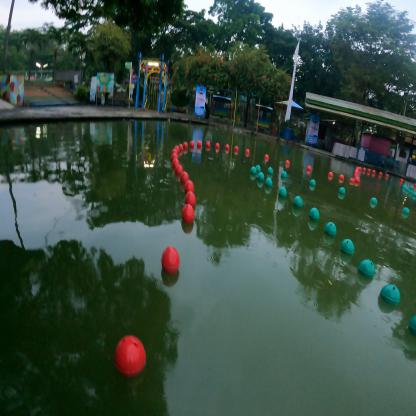green_buoy: (380, 281, 401, 307), (358, 257, 375, 280), (339, 236, 355, 256), (324, 221, 338, 237), (407, 314, 416, 337), (309, 207, 320, 222), (294, 194, 303, 208), (278, 185, 287, 198), (264, 177, 273, 188), (258, 171, 265, 182), (338, 186, 346, 194), (250, 165, 257, 174), (309, 178, 316, 187), (255, 164, 261, 173), (281, 169, 287, 178), (371, 197, 378, 204), (268, 166, 274, 174), (404, 207, 410, 213), (402, 184, 407, 190), (406, 187, 410, 192), (409, 190, 413, 194), (413, 191, 415, 198), (410, 186, 414, 188)
red_buoy: (113, 331, 146, 377), (161, 244, 180, 273), (182, 204, 194, 223), (185, 191, 196, 207), (180, 170, 190, 184), (185, 179, 194, 193), (175, 164, 183, 175), (172, 158, 180, 168), (171, 148, 178, 157), (171, 153, 178, 162), (178, 143, 184, 151), (306, 165, 312, 172), (328, 172, 334, 179), (174, 145, 179, 153), (355, 176, 360, 184), (206, 141, 211, 148), (183, 141, 188, 148), (215, 142, 220, 149), (225, 144, 230, 151), (197, 141, 202, 147), (234, 146, 239, 152), (354, 170, 359, 176), (339, 174, 344, 180), (190, 140, 194, 147), (285, 160, 290, 165), (246, 148, 250, 154), (264, 155, 269, 159), (356, 166, 360, 171), (355, 168, 359, 173), (354, 174, 358, 179), (350, 178, 354, 183), (372, 169, 376, 173), (359, 167, 362, 171), (363, 168, 366, 172), (367, 168, 370, 172), (385, 174, 389, 177), (400, 178, 403, 182), (379, 172, 382, 174), (414, 183, 415, 187)
